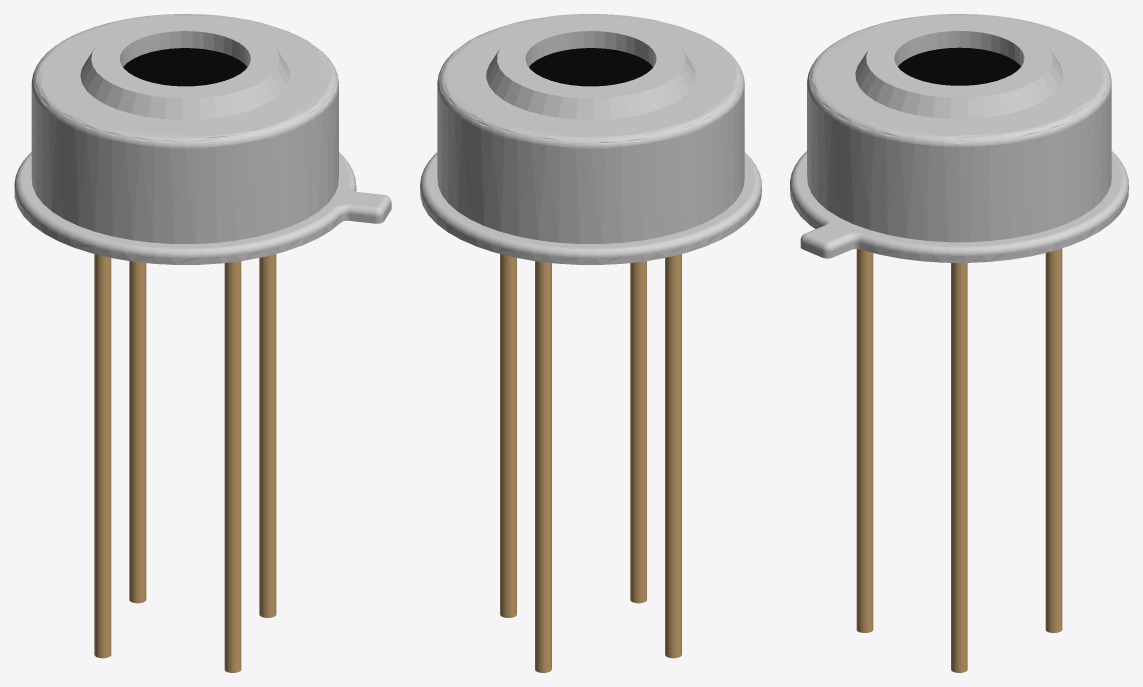
3 views of the same model, side by side, from view 1: azimuth 30°, elevation 25°; view 2: azimuth 150°, elevation 25°; view 3: azimuth 270°, elevation 25° (orthographic).
Visible parts, largest first — view 1: _570; view 2: _570; view 3: _570.
Part boxes in pixels (x1,y1,x2,y2): _570: (14,14,391,672); _570: (420,14,761,672); _570: (790,14,1128,672).
Bounding box in the file's own units: 9.12 × 9.12 × 16.95.
